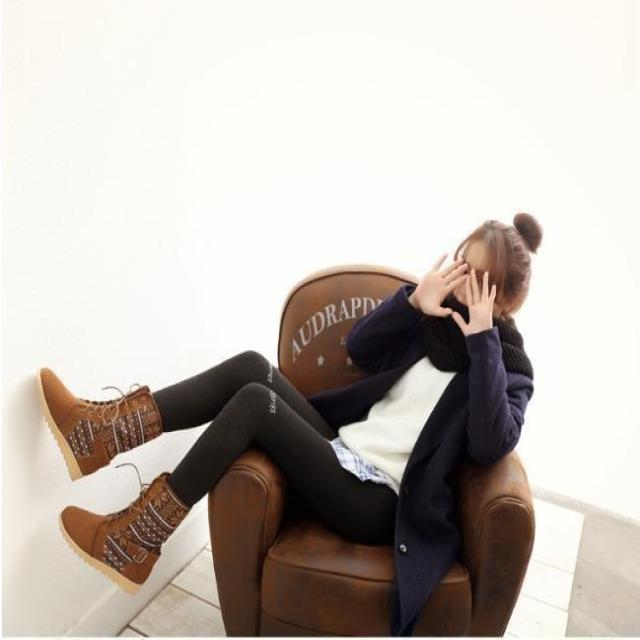long sleeve outwear: (309, 285, 444, 435)
trousers: (153, 352, 404, 548)
